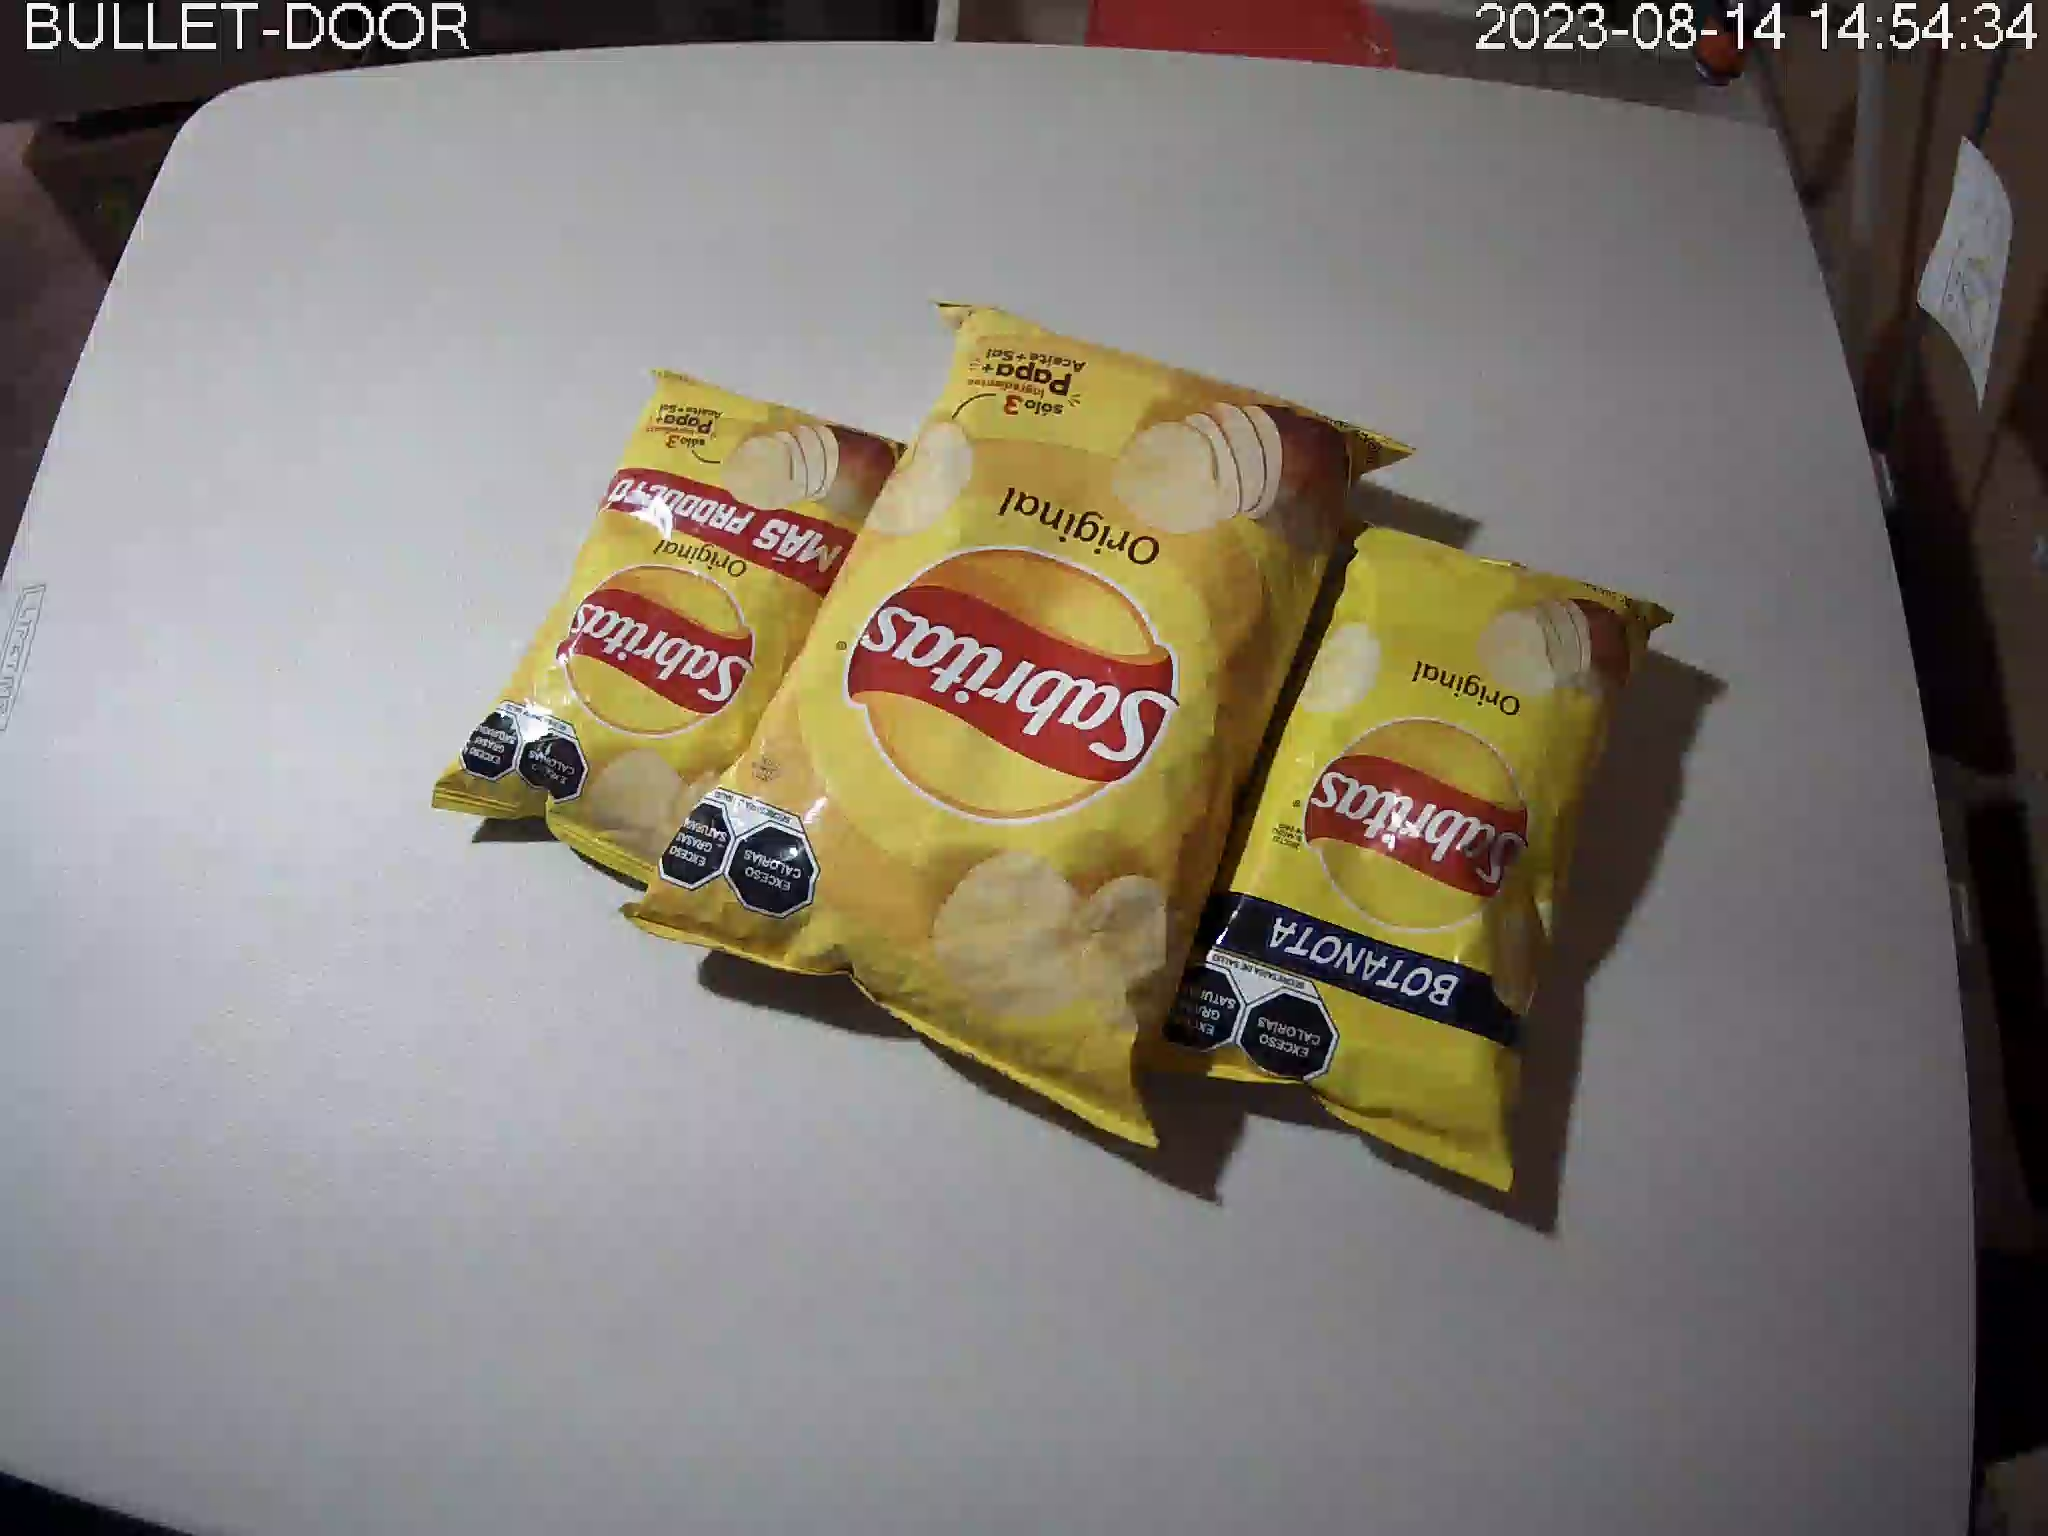Sabritas_160_F: (618, 300, 1417, 1149)
Sabritas_45_F: (431, 360, 922, 886)
Sabritas_64_F: (1126, 511, 1675, 1196)
